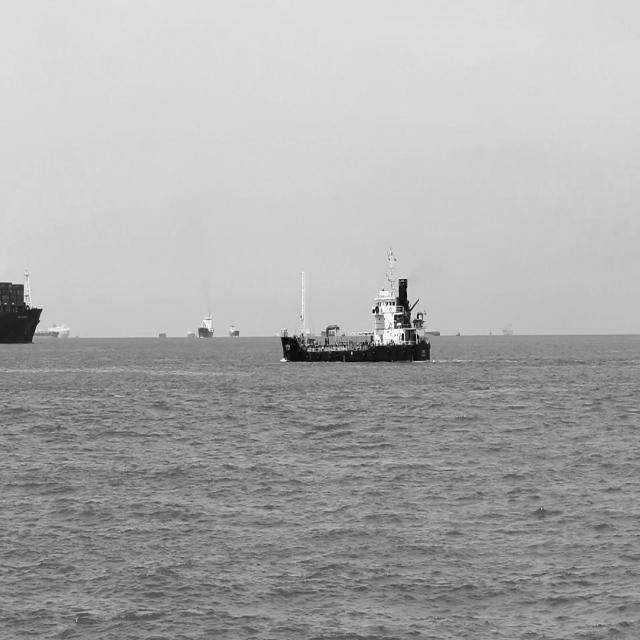ship: (280, 240, 435, 367), (0, 265, 45, 351), (37, 320, 72, 340), (198, 311, 217, 341), (227, 319, 240, 343), (500, 323, 518, 340), (156, 326, 168, 342), (185, 328, 197, 344)
